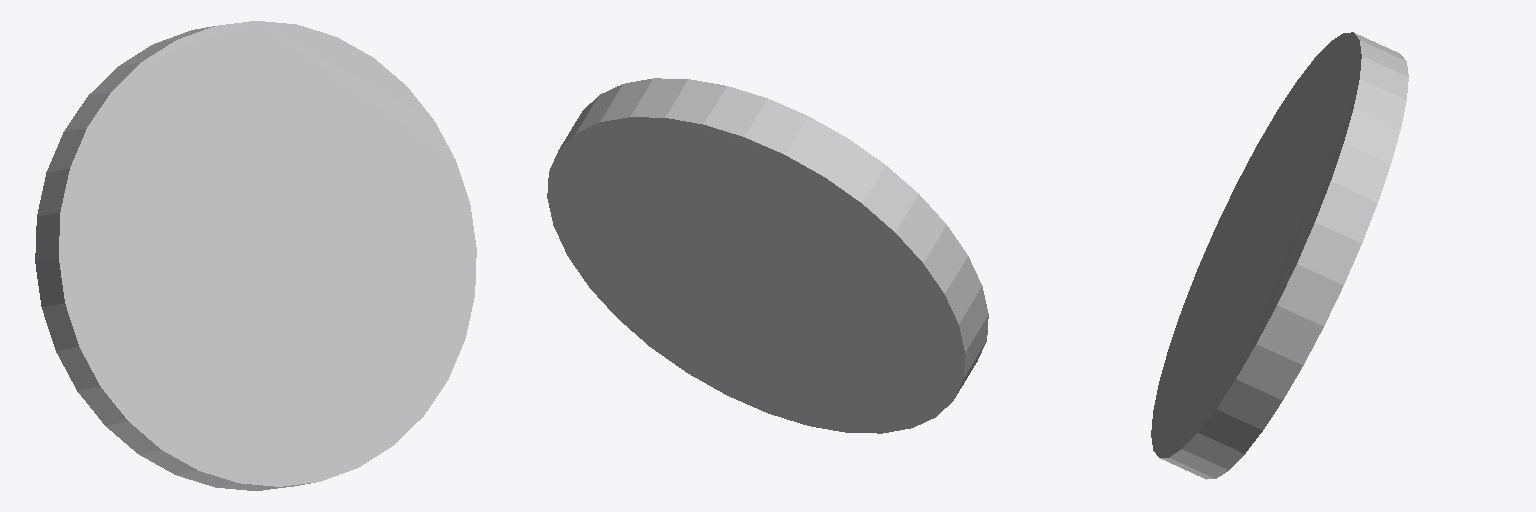
Rendered from rc4_icon.obj.
3 views of the same model, side by side, from view 1: azimuth 30°, elevation 25°; view 2: azimuth 150°, elevation 25°; view 3: azimuth 270°, elevation 25° (orthographic).
Visible parts, largest first — view 1: Cube.023; view 2: Cube.023; view 3: Cube.023.
Boxes of the visible parts, x1=… form: Cube.023: x1=35, y1=21, x2=476, y2=490; Cube.023: x1=547, y1=78, x2=988, y2=433; Cube.023: x1=1151, y1=32, x2=1408, y2=479.
Bounding box in the file's own units: 0.006 × 0.0057 × 0.0033.